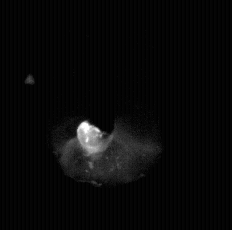arame: (88, 0, 115, 138)
poca: (52, 0, 161, 230)
